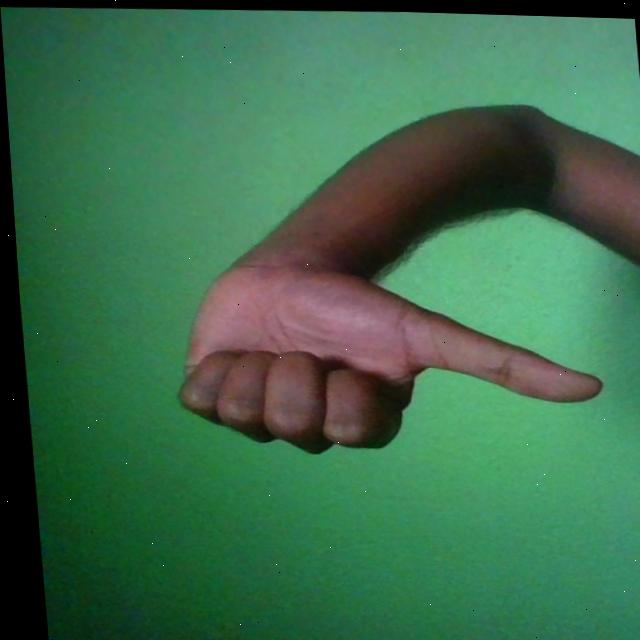Dislike: (162, 242, 601, 458)
